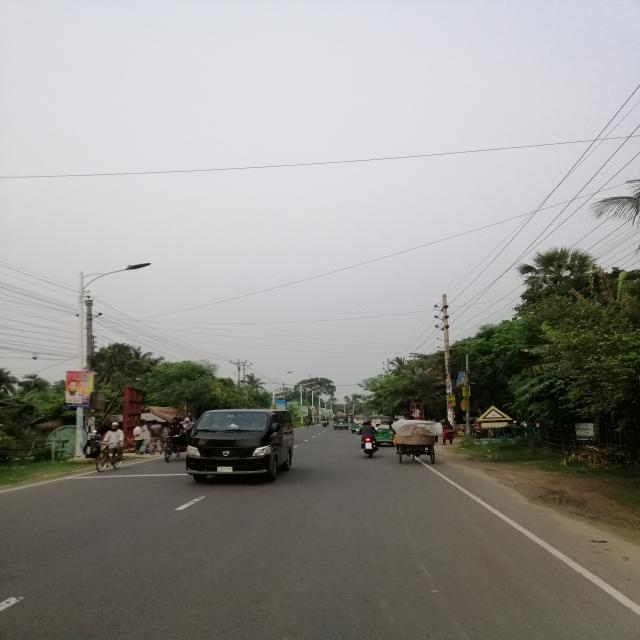Micro-Bus: (181, 406, 298, 483)
